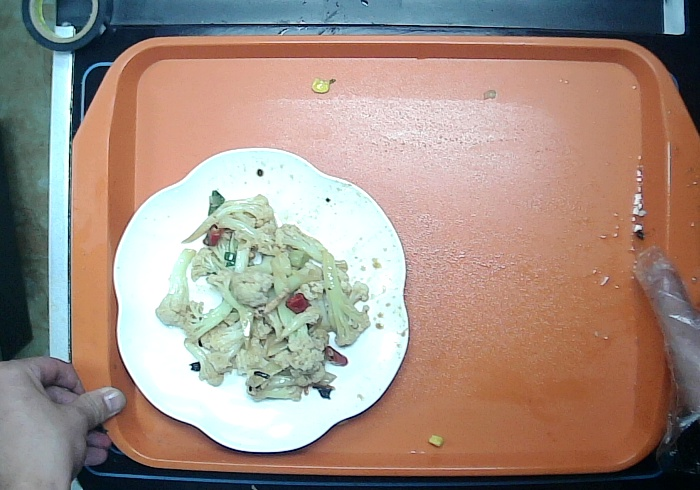HZYJPL-Bai_Se_Hua_Duo_Wan: (111, 144, 411, 457)
